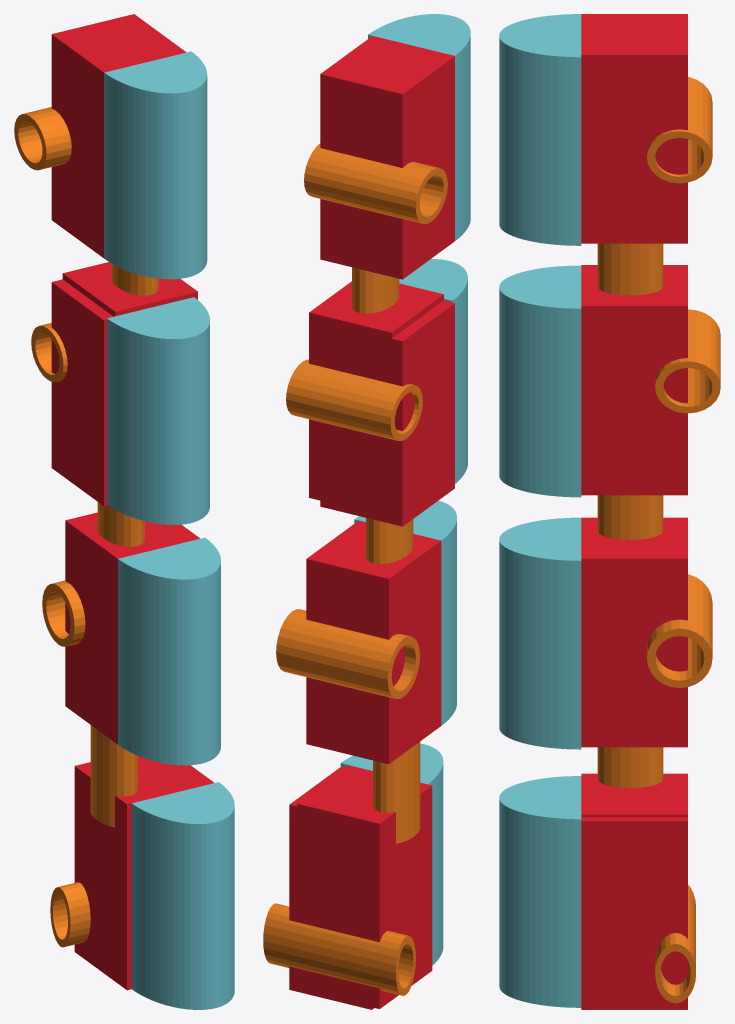
Rendered from tinker.obj.
3 renders of one model, left to right at view 1: azimuth 30°, elevation 25°; view 2: azimuth 150°, elevation 25°; view 3: azimuth 270°, elevation 25°, orthographic.
Visible parts, largest first — view 1: group_0_7720667, group_0_15277357, group_0_16089887; view 2: group_0_15277357, group_0_16089887, group_0_7720667; view 3: group_0_15277357, group_0_7720667, group_0_16089887.
Part boxes in pixels (x1=…): group_0_7720667: x1=104, y1=51, x2=234, y2=1009; group_0_15277357: x1=51, y1=14, x2=214, y2=990; group_0_16089887: x1=14, y1=107, x2=158, y2=947; group_0_15277357: x1=289, y1=36, x2=454, y2=1009; group_0_16089887: x1=263, y1=143, x2=447, y2=995; group_0_7720667: x1=340, y1=14, x2=470, y2=965; group_0_15277357: x1=581, y1=14, x2=687, y2=1009; group_0_7720667: x1=499, y1=14, x2=581, y2=1007; group_0_16089887: x1=597, y1=77, x2=720, y2=1003.
Size of the model in its own units: 23 by 126 by 27.
